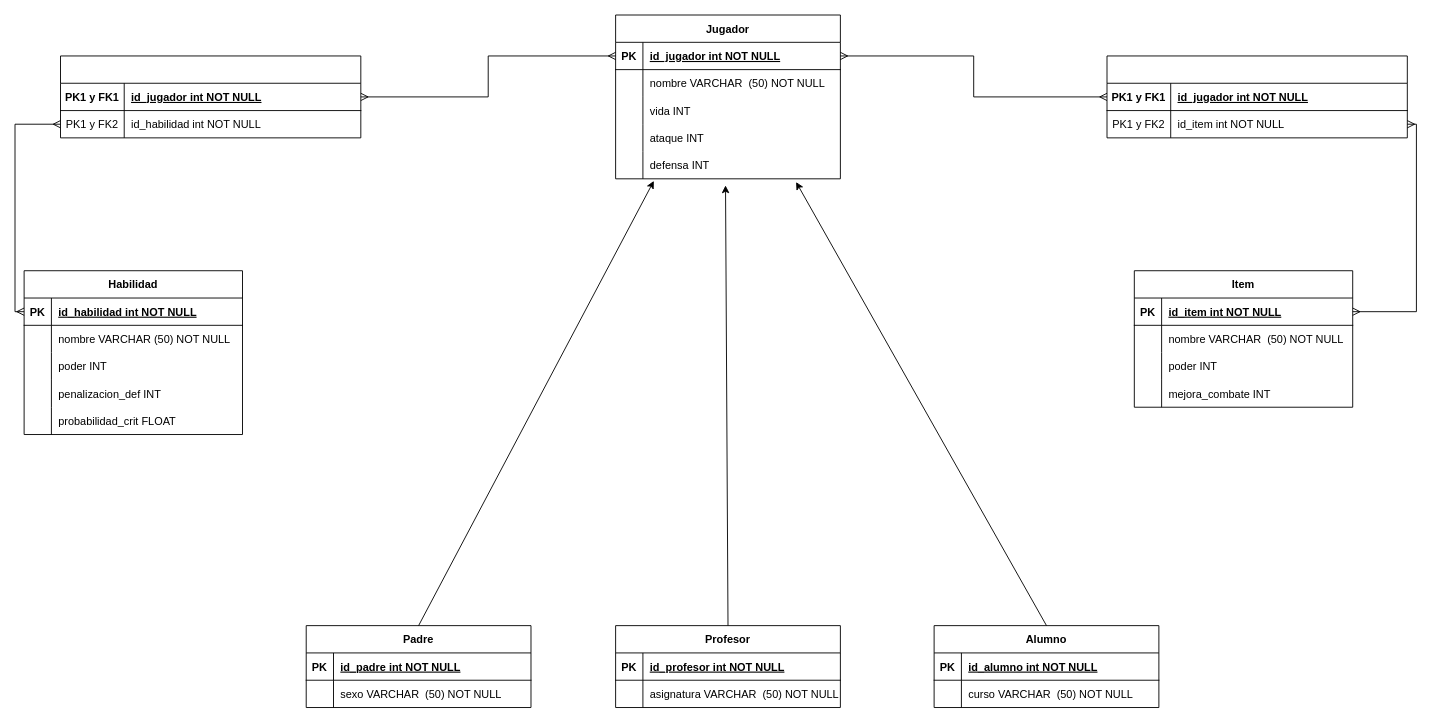
This 1431x723 diagram has some shape labels left out. Here are the shapes that lost their labels. From the top down, the box of each, then its label:
(60, 55, 361, 138): Jugador_Habilidad
(1106, 55, 1407, 138): Jugador_Item
